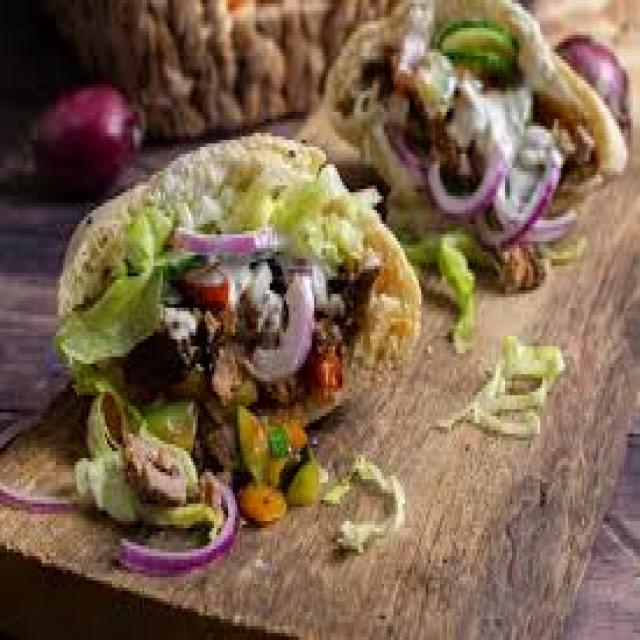organic waste: (53, 130, 419, 518), (289, 0, 626, 266), (61, 122, 356, 336), (433, 332, 568, 444), (23, 70, 142, 178), (119, 468, 237, 574), (349, 210, 421, 374), (61, 262, 168, 364), (175, 360, 272, 472), (242, 269, 324, 395), (554, 25, 631, 136), (0, 409, 77, 511), (472, 147, 558, 238), (326, 451, 400, 556), (407, 224, 470, 346), (168, 210, 296, 266), (280, 164, 358, 245), (449, 77, 538, 143), (491, 164, 577, 231), (444, 224, 526, 290), (401, 31, 458, 119), (438, 14, 516, 77), (135, 392, 202, 454), (219, 161, 293, 217), (124, 423, 182, 486), (184, 256, 242, 312), (268, 406, 312, 479), (235, 406, 275, 482), (322, 203, 372, 262), (307, 336, 347, 406), (81, 378, 126, 440), (493, 252, 547, 297), (280, 448, 324, 503), (209, 346, 249, 402), (74, 455, 119, 500), (207, 419, 247, 468), (538, 206, 584, 238), (242, 483, 282, 514), (566, 172, 598, 186)
